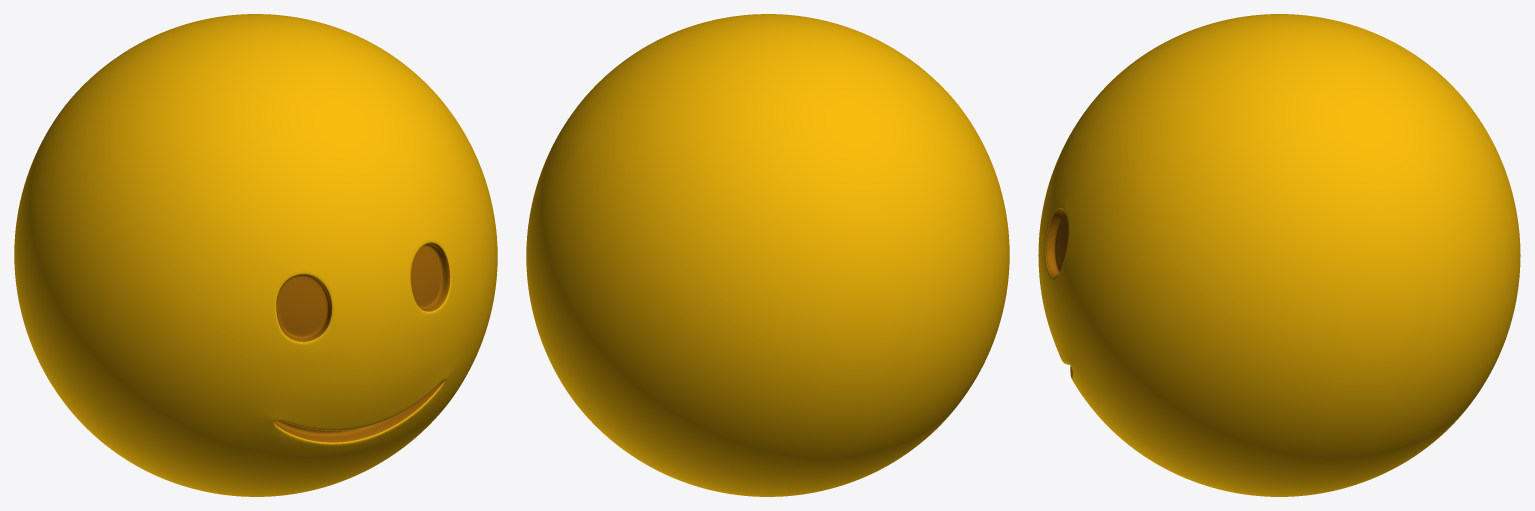
Rendered from smile-blue.glb.
3 renders of one model, left to right at view 1: azimuth 30°, elevation 25°; view 2: azimuth 150°, elevation 25°; view 3: azimuth 270°, elevation 25°, orthographic.
Visible parts, largest first — view 1: Object_3, Object_2; view 2: Object_3; view 3: Object_3, Object_2.
Part boxes in pixels (bbox=[...]): Object_3: bbox=[14, 14, 497, 496]; Object_2: bbox=[274, 243, 450, 442]; Object_3: bbox=[526, 14, 1009, 496]; Object_3: bbox=[1038, 14, 1520, 496]; Object_2: bbox=[1046, 209, 1073, 376].
Bounding box in the file's own units: 25.19 × 25.19 × 25.19.
